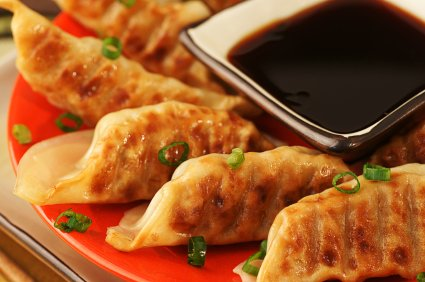curry: (0, 0, 424, 274)
